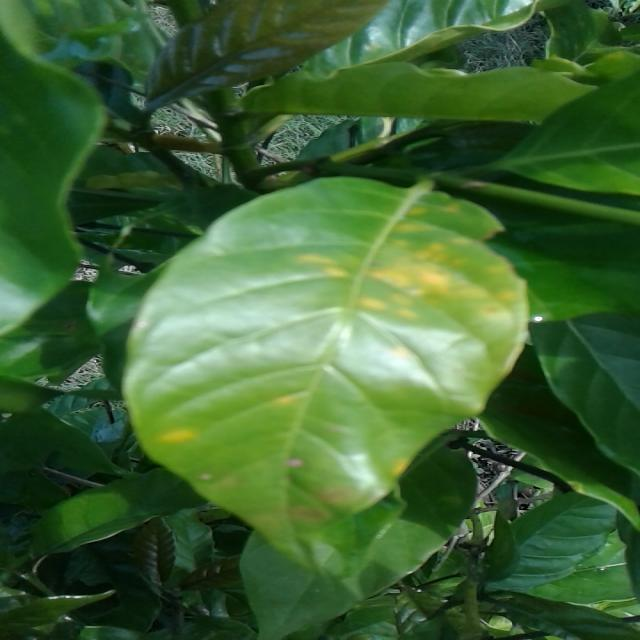Enfermedad-Roya: (122, 178, 531, 576)
